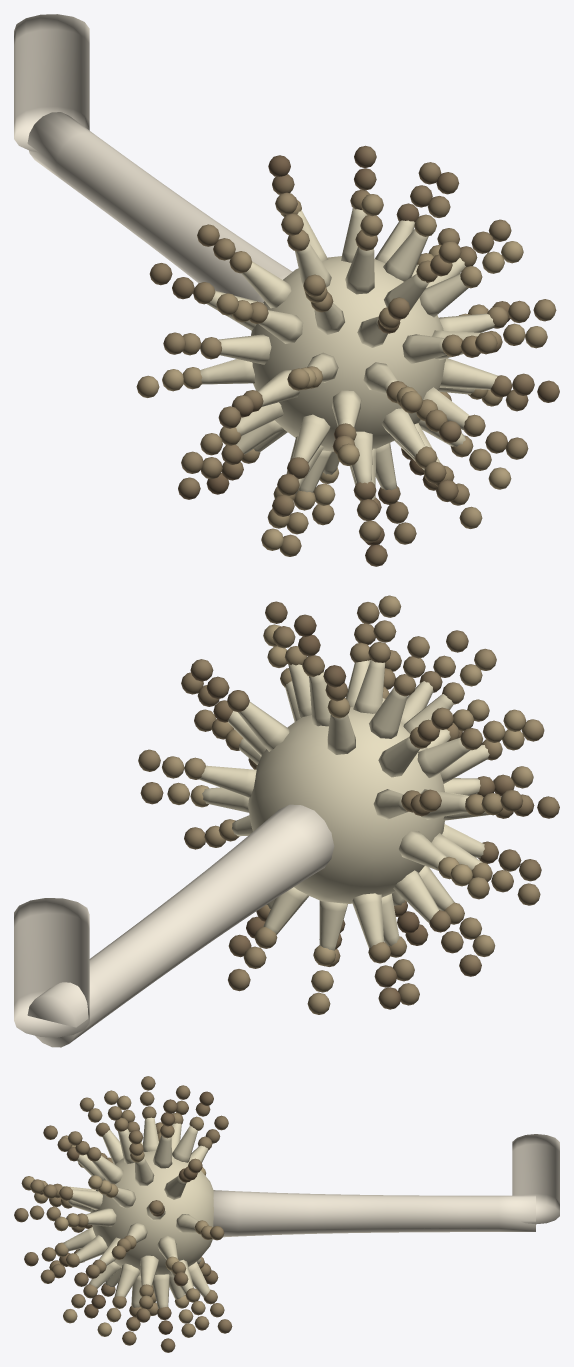
The model's file is aspergillus-sojae.glb.
The picture shows the model from 3 angles, top to bottom: view 1: azimuth 30°, elevation 25°; view 2: azimuth 150°, elevation 25°; view 3: azimuth 270°, elevation 25°; orthographic projection. The views are drawn at different scales.
Visible parts, largest first — view 1: vesicle_phialides, conidial_chains, conidiophore_stipe; view 2: vesicle_phialides, conidial_chains, conidiophore_stipe; view 3: vesicle_phialides, conidiophore_stipe, conidial_chains.
Boxes of the visible parts, bbox=[...] form: vesicle_phialides: bbox=[200, 207, 498, 502]; conidial_chains: bbox=[136, 145, 559, 566]; conidiophore_stipe: bbox=[14, 14, 292, 302]; vesicle_phialides: bbox=[199, 660, 490, 950]; conidial_chains: bbox=[138, 595, 559, 1014]; conidiophore_stipe: bbox=[14, 804, 334, 1047]; vesicle_phialides: bbox=[62, 1117, 213, 1308]; conidiophore_stipe: bbox=[213, 1134, 559, 1237]; conidial_chains: bbox=[14, 1076, 232, 1352].
Bounding box in the file's own units: 1.94 × 1.94 × 3.91.
